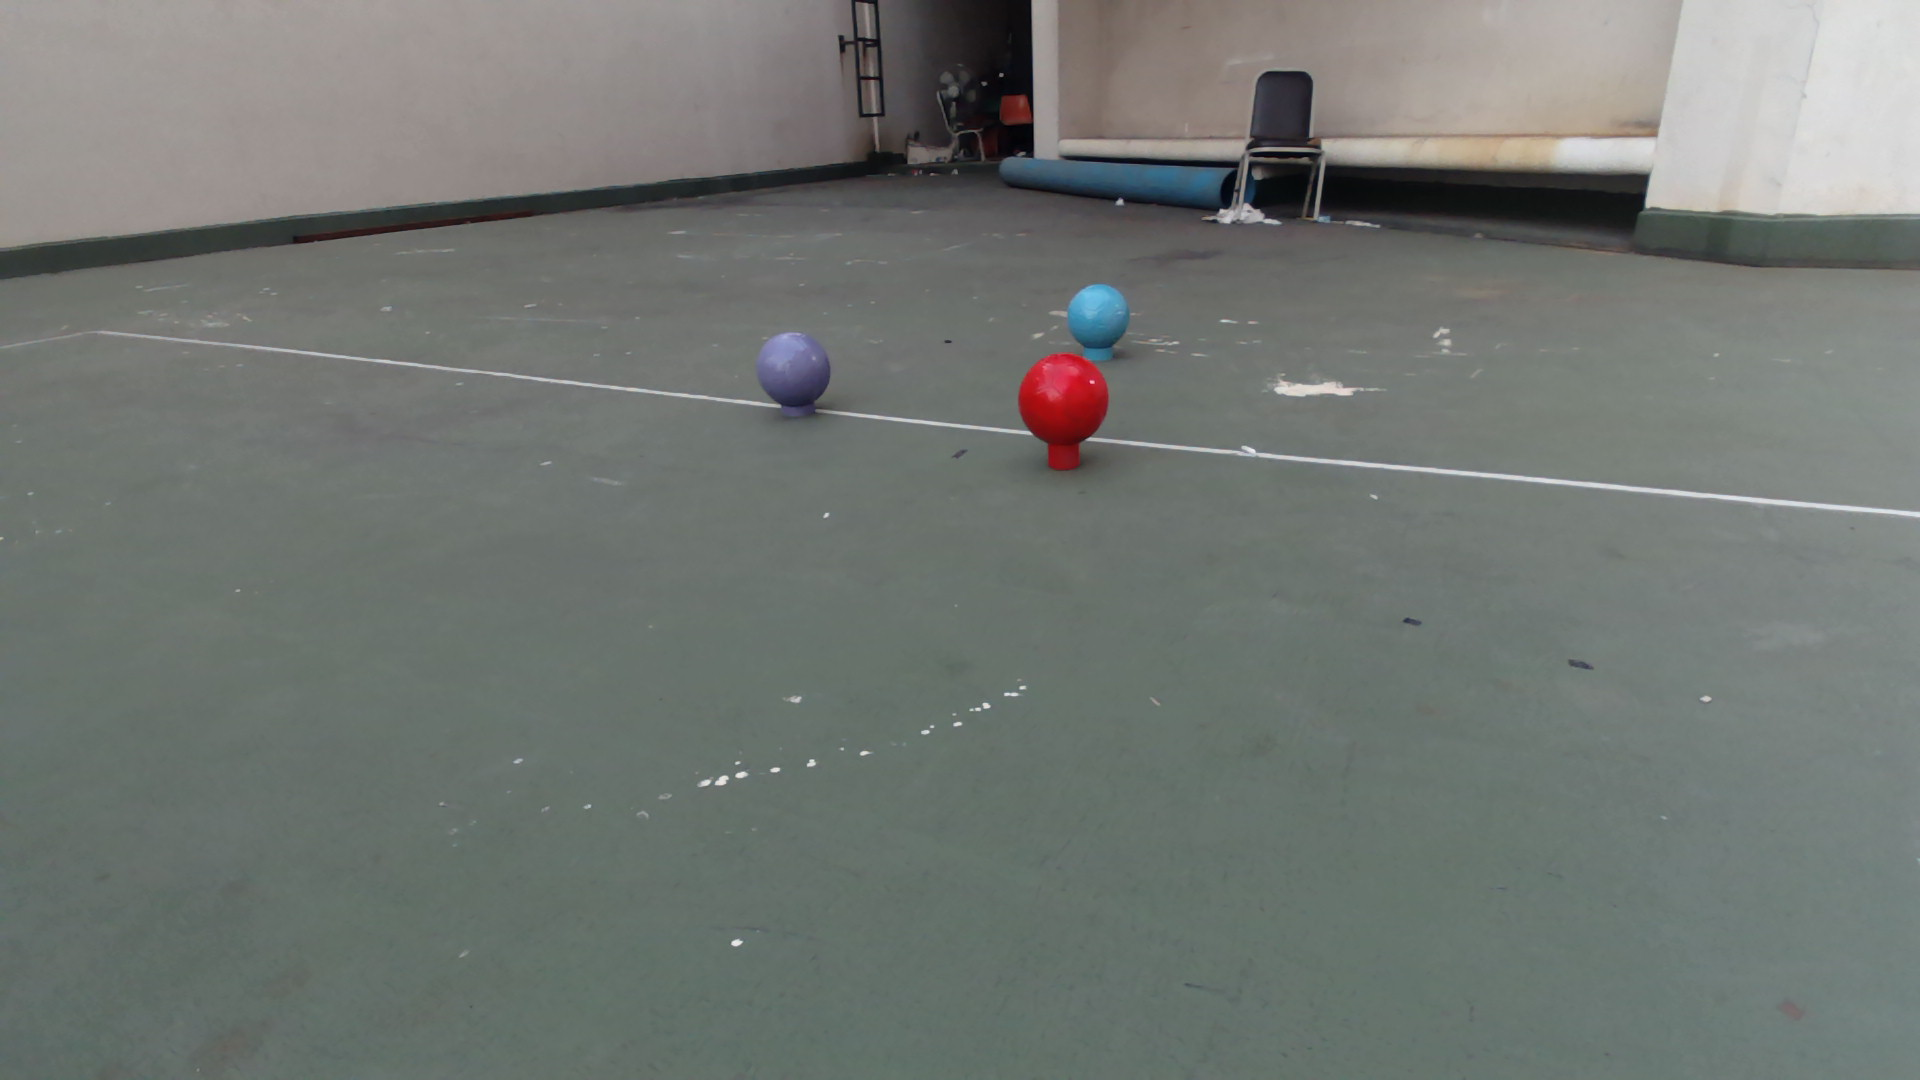Blue ball: (1065, 282, 1131, 349)
Purple ball: (753, 330, 833, 407)
Red ball: (1015, 352, 1112, 447)
